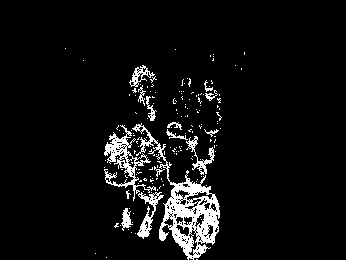person: (174, 165, 219, 260), (133, 122, 167, 245), (104, 122, 135, 234), (202, 76, 227, 164), (123, 66, 160, 120), (179, 72, 197, 141)
